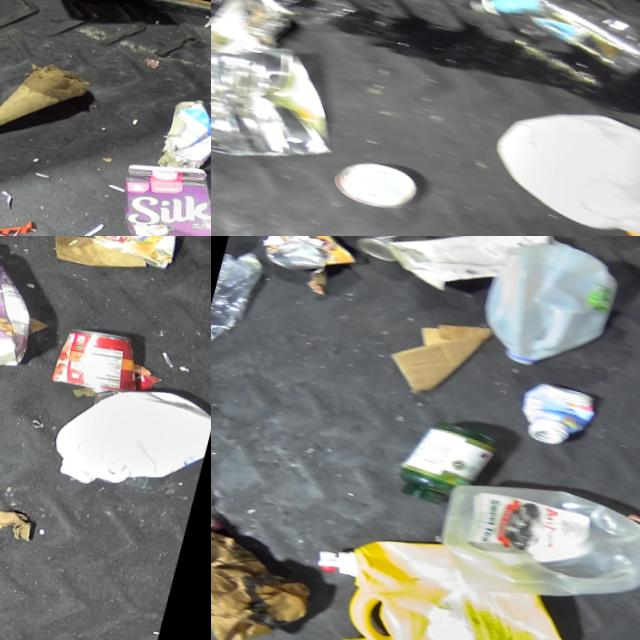can: (211, 17, 358, 180), (50, 324, 151, 400), (211, 0, 304, 72), (333, 155, 430, 218), (256, 236, 362, 283), (88, 236, 187, 274), (351, 236, 434, 269)
milk_jug: (429, 465, 640, 621), (472, 93, 640, 236), (46, 371, 211, 508), (473, 236, 627, 380)
non_white_jug: (297, 516, 589, 640), (99, 153, 211, 236), (0, 236, 57, 381)
plastic_bottle: (211, 244, 267, 348)
